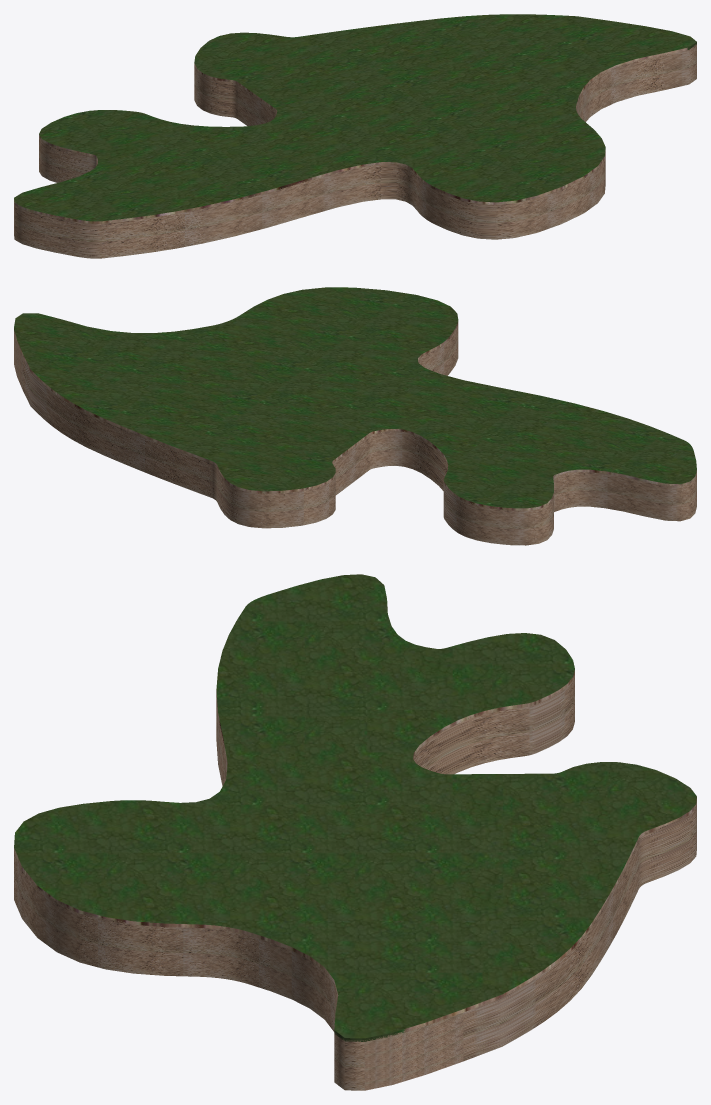
Rendered from summer.FBX.
The picture shows the model from 3 angles, top to bottom: view 1: azimuth 30°, elevation 25°; view 2: azimuth 150°, elevation 25°; view 3: azimuth 270°, elevation 25°; orthographic projection. The views are drawn at different scales.
Parts seen in each view (by area): view 1: Line009, Line010; view 2: Line009, Line010; view 3: Line009, Line010.
Boxes of the visible parts, x1,y1,x2,y2 form: Line009: (14,14,696,223); Line010: (14,44,696,258); Line009: (14,287,696,510); Line010: (14,323,696,545); Line009: (14,574,696,1041); Line010: (14,673,696,1090).
Bounding box in the file's own units: 937 × 49.24 × 583.
2 materials, 2 textured.
